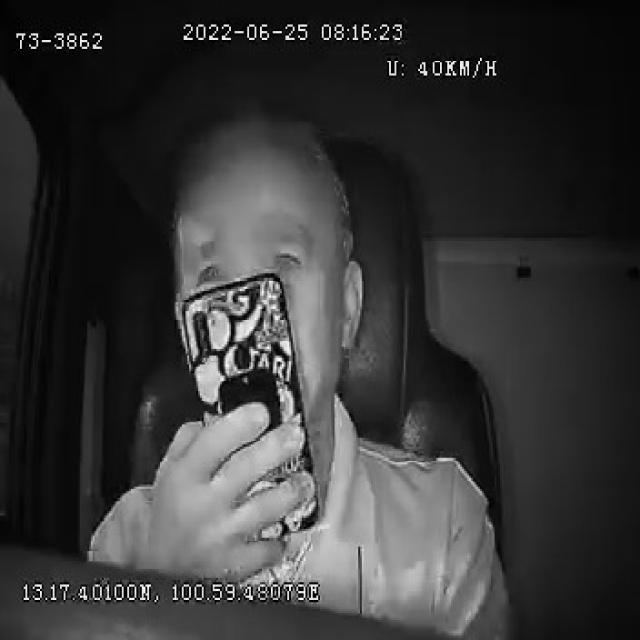phone: (182, 272, 319, 540)
